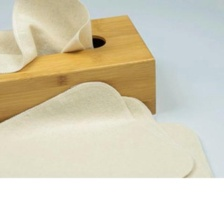tissue: (0, 76, 221, 177), (0, 0, 100, 77)
